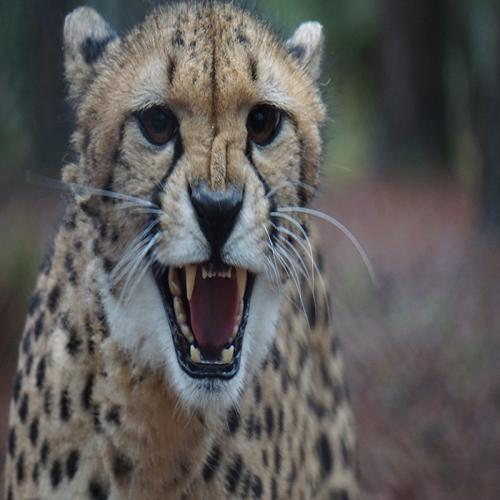cheetah-endangered: (28, 2, 346, 500)
